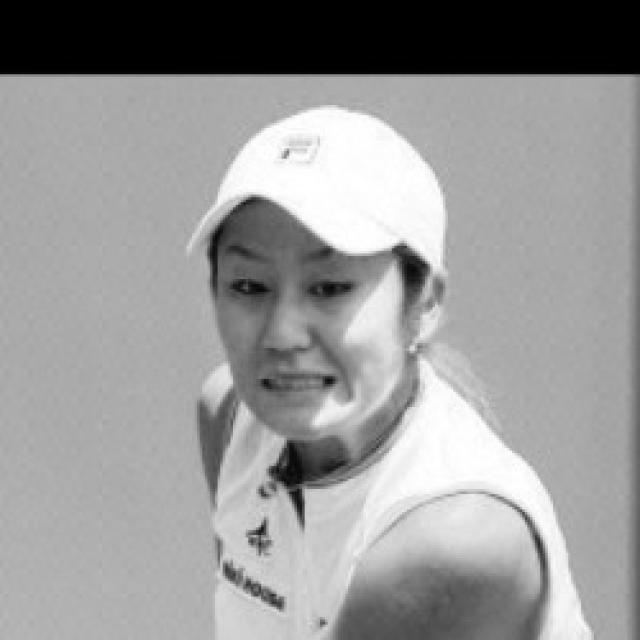real: (214, 204, 406, 436), (220, 258, 362, 314)
